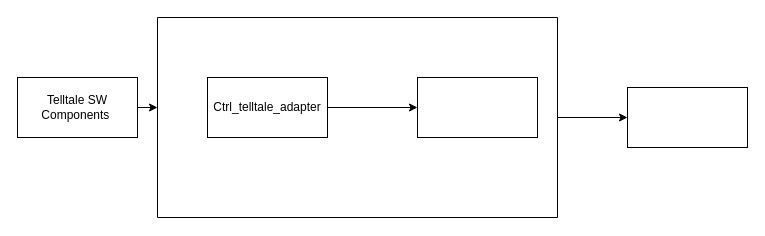
Some shapes in this 765 by 236 pixel diagram are drawn without their labels. Here are the shapes that lost their labels. From the top down, the centre of each, then its label:
At (477,107): "Ctrl_telltale".
At (687,117): "TelltaleHMIView".
